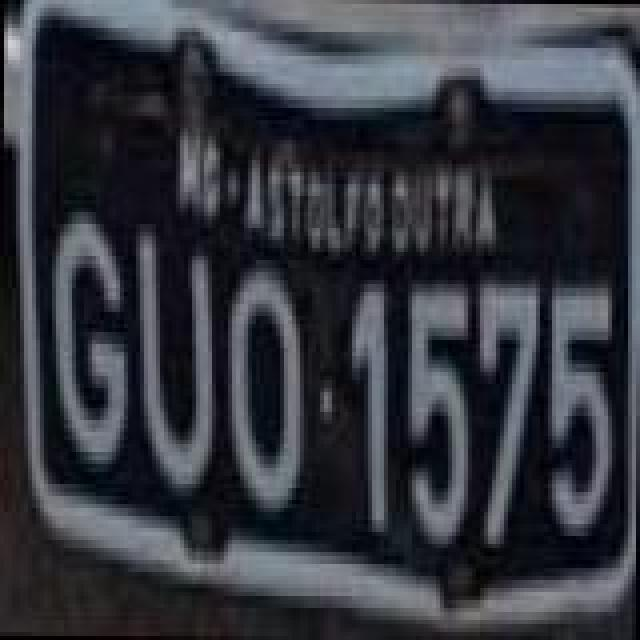1: (346, 272, 394, 544)
5: (546, 276, 618, 548), (404, 282, 472, 554)
7: (472, 280, 540, 552)
G: (46, 208, 130, 480)
O: (222, 260, 302, 532)
U: (132, 216, 220, 500)
